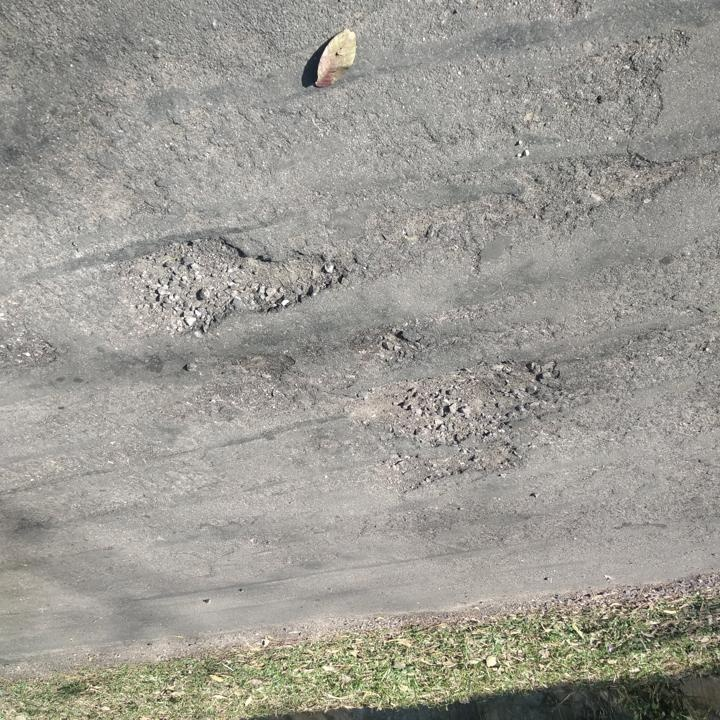pothole: (121, 237, 351, 343), (354, 364, 582, 448), (371, 443, 527, 497), (368, 323, 419, 364)
